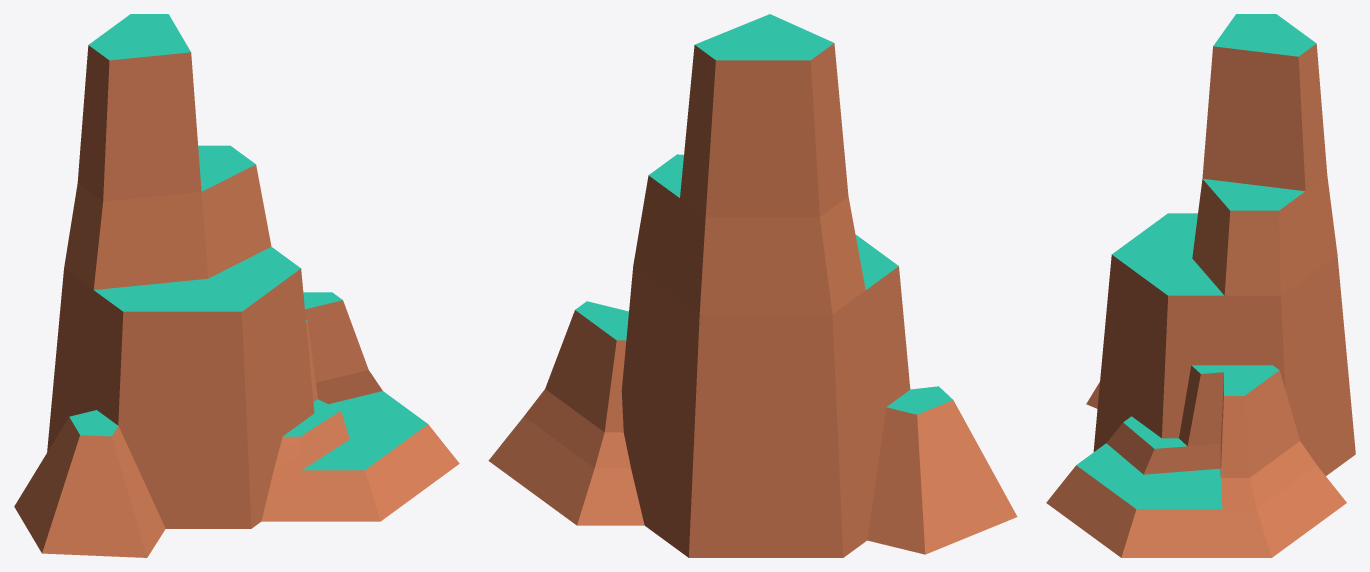
Rendered from rock_tallA.dae.
3 views of the same model, side by side, from view 1: azimuth 30°, elevation 25°; view 2: azimuth 150°, elevation 25°; view 3: azimuth 270°, elevation 25° (orthographic). The views are drawn at different scales.
Parts seen in each view (by area): view 1: rock_tallA; view 2: rock_tallA; view 3: rock_tallA.
Boxes of the visible parts, box(x1,y1,x2,y2) form: rock_tallA: box(14, 14, 459, 557); rock_tallA: box(488, 14, 1017, 557); rock_tallA: box(1046, 14, 1355, 557).
Size of the model in its own units: 0.9831 by 0.9959 by 0.6832.
